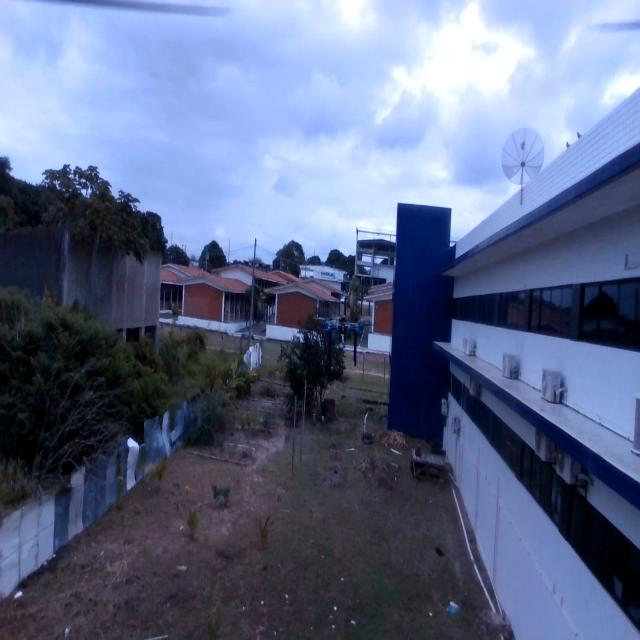-uav-: (317, 304, 379, 382)
